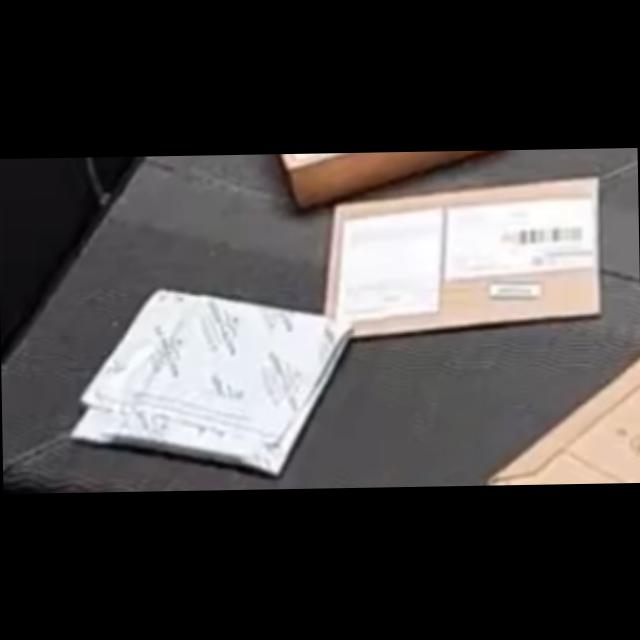mailer: (67, 284, 351, 482), (314, 176, 604, 343)
